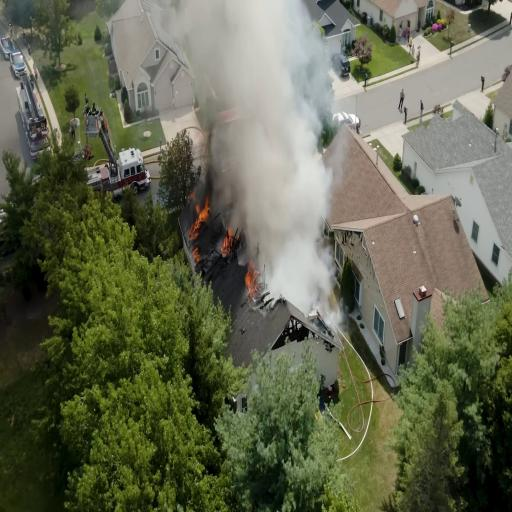smoke: (220, 92, 316, 244), (201, 0, 308, 97)
